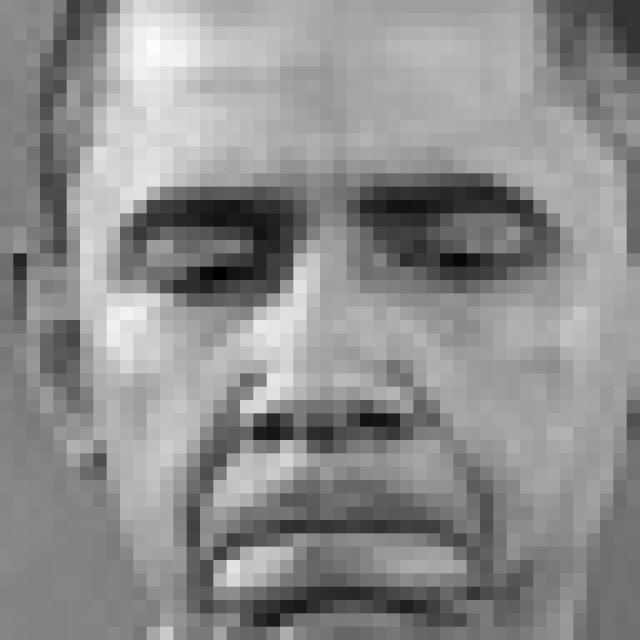sad: (105, 162, 592, 621)
